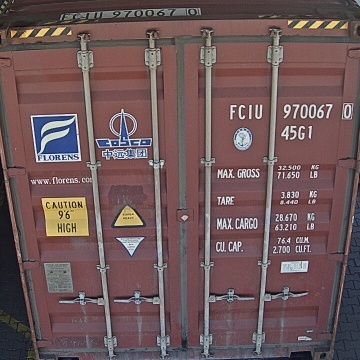serial_id: (230, 103, 353, 119)
